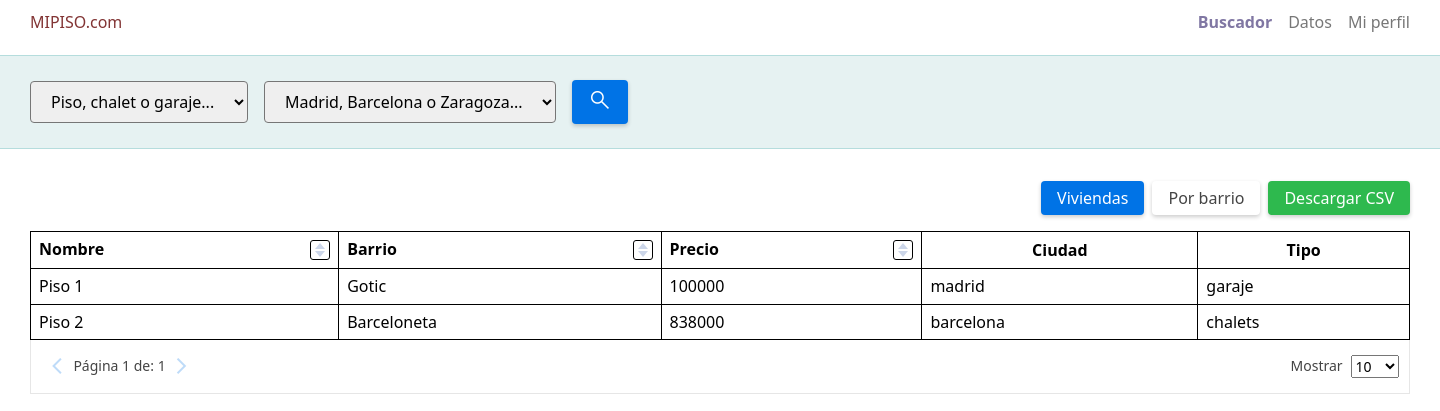
Test case: Data › renders district table table
Check: the text "Piso 2" is shown, box [30,304,339,340]
Click the button "Por barrio" at (1206, 198), box [1152,181,1260,215]
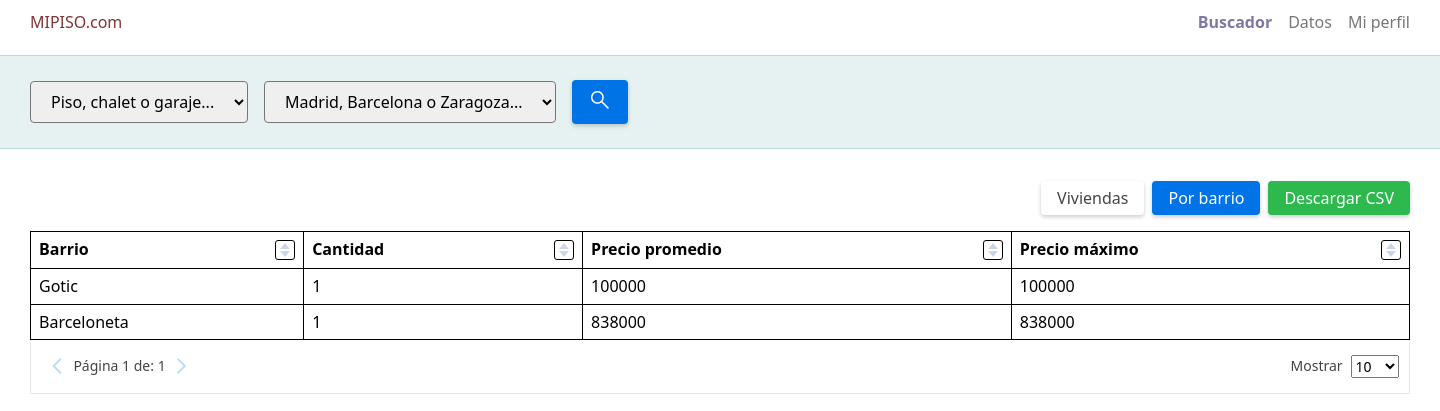
Check: the table with test id "districtsTable" is shown, box [30,231,1410,340]
